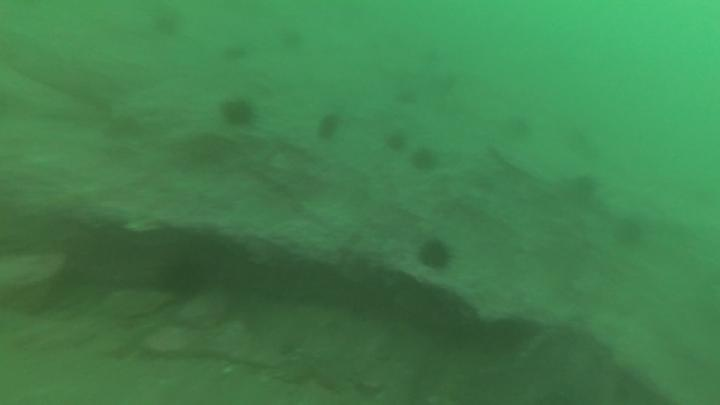echinus: (157, 254, 211, 301), (178, 130, 232, 172), (415, 236, 455, 274), (218, 95, 258, 131), (610, 214, 647, 251), (564, 172, 601, 208), (148, 7, 186, 41), (500, 112, 535, 145), (408, 145, 441, 174), (314, 111, 343, 144), (276, 25, 307, 53), (219, 40, 251, 66), (382, 128, 410, 154), (392, 84, 421, 108)
